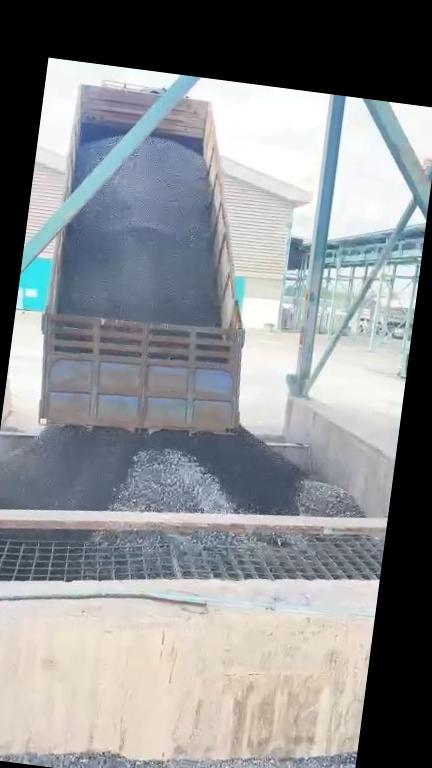gravel: (57, 137, 220, 326), (0, 426, 302, 514), (0, 753, 357, 768), (92, 529, 290, 550), (298, 479, 363, 516), (75, 136, 120, 186)
